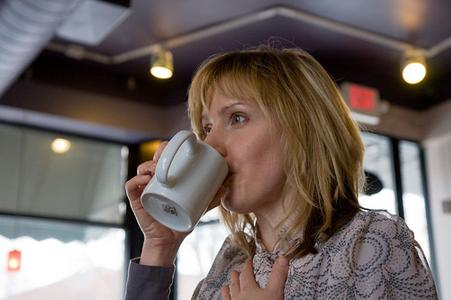person: (116, 39, 439, 300)
